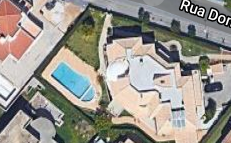pool: (52, 65, 96, 100)
